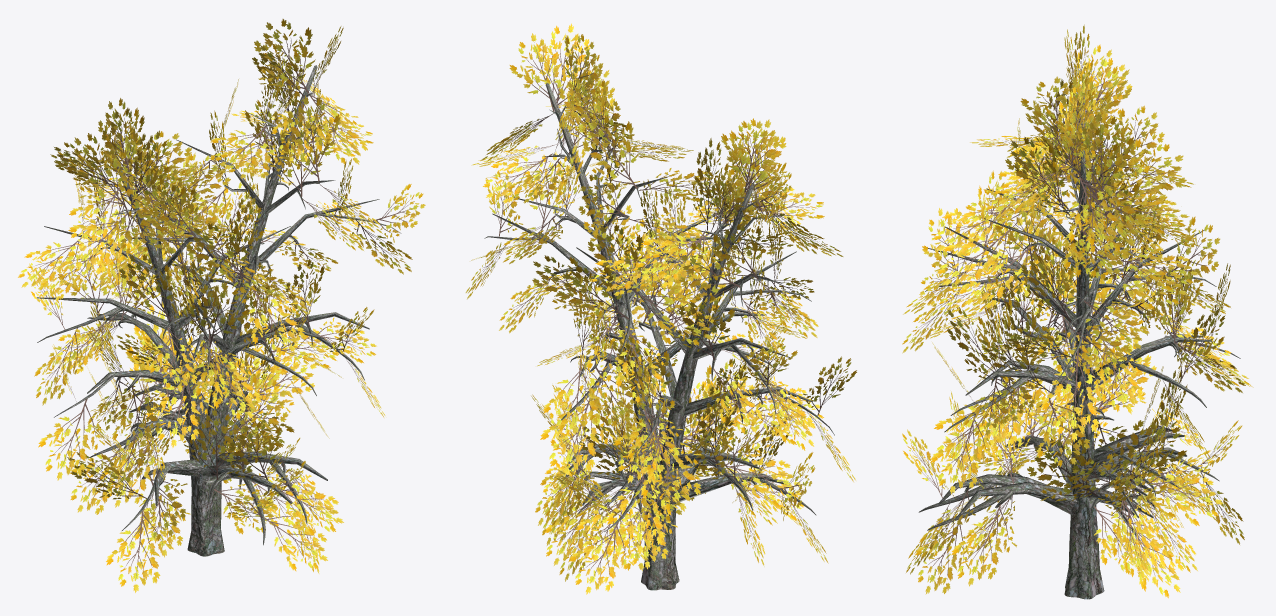
The model's file is Tree2.fbx.
The picture shows the model from 3 angles, left to right: view 1: azimuth 30°, elevation 25°; view 2: azimuth 150°, elevation 25°; view 3: azimuth 270°, elevation 25°; orthographic projection. The views are drawn at different scales.
Parts seen in each view (by area): view 1: Tree_1, Tree_0; view 2: Tree_1, Tree_0; view 3: Tree_1, Tree_0.
Part boxes in pixels (box(x1,y1,x2,y2)): Tree_1: box(18, 19, 425, 592); Tree_0: box(37, 65, 401, 556); Tree_1: box(465, 23, 856, 594); Tree_0: box(484, 83, 834, 590); Tree_1: box(902, 24, 1253, 598); Tree_0: box(918, 96, 1240, 599).
Bounding box in the file's own units: 74.27 × 98.49 × 57.87.
Materials: 2 (2 with a texture image).
